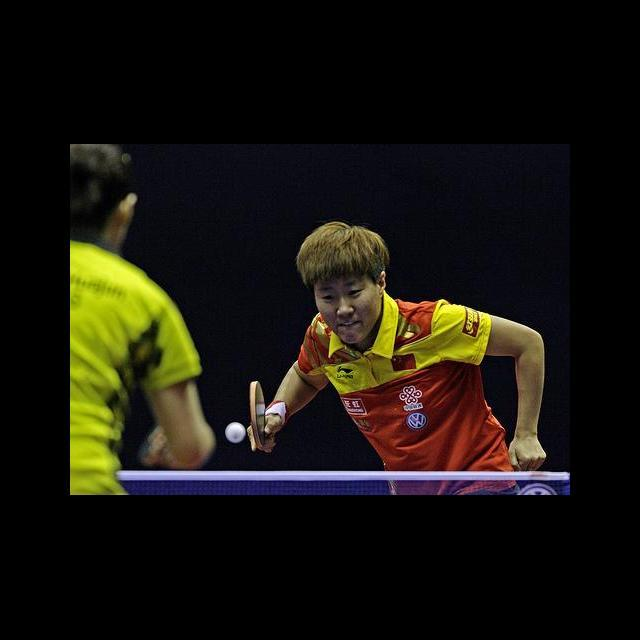ping-pong-ball: (224, 422, 247, 443)
